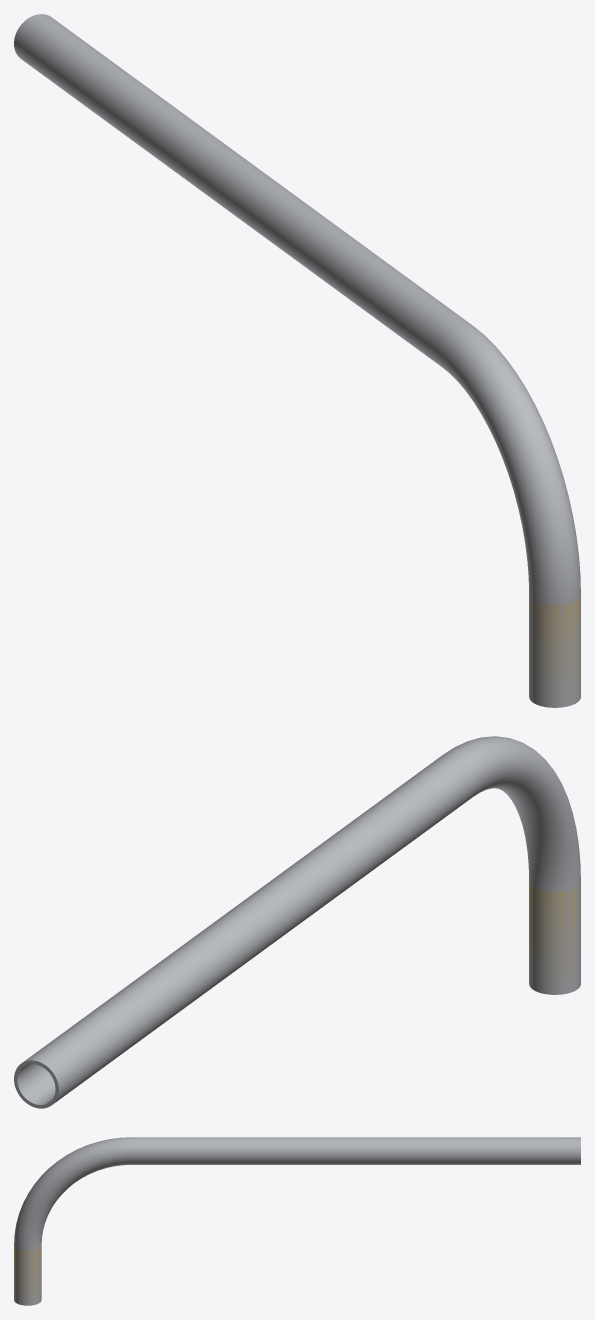
The model's file is step_41.glb.
The picture shows the model from 3 angles, top to bottom: view 1: azimuth 30°, elevation 25°; view 2: azimuth 150°, elevation 25°; view 3: azimuth 270°, elevation 25°; orthographic projection. The views are drawn at different scales.
Visible parts, largest first — view 1: part__cross tube front, added__cross tube front; view 2: part__cross tube front, added__cross tube front; view 3: part__cross tube front, added__cross tube front.
Part boxes in pixels (left/top/right/bottom): part__cross tube front: left=14, top=14, right=580, bottom=707; added__cross tube front: left=530, top=595, right=580, bottom=705; part__cross tube front: left=14, top=736, right=580, bottom=1108; added__cross tube front: left=529, top=881, right=580, bottom=994; part__cross tube front: left=14, top=1137, right=580, bottom=1305; added__cross tube front: left=14, top=1246, right=41, bottom=1303.
Size of the model in its own units: 80 by 515 by 1640.
